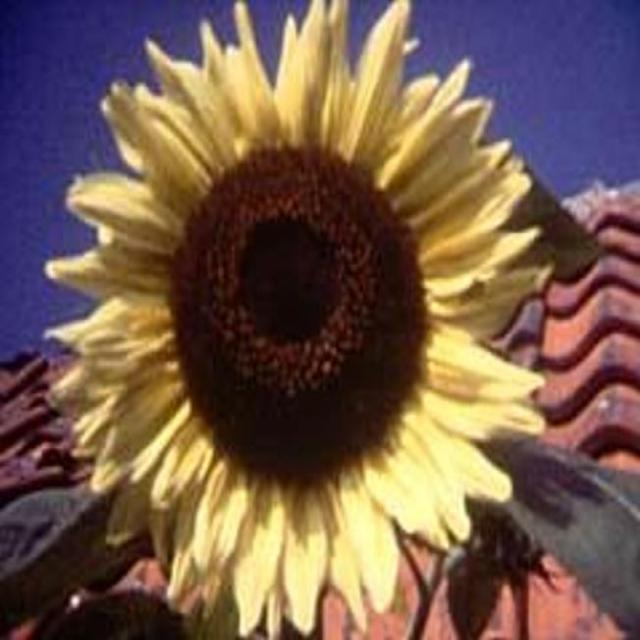sunflower: (40, 0, 548, 640)
